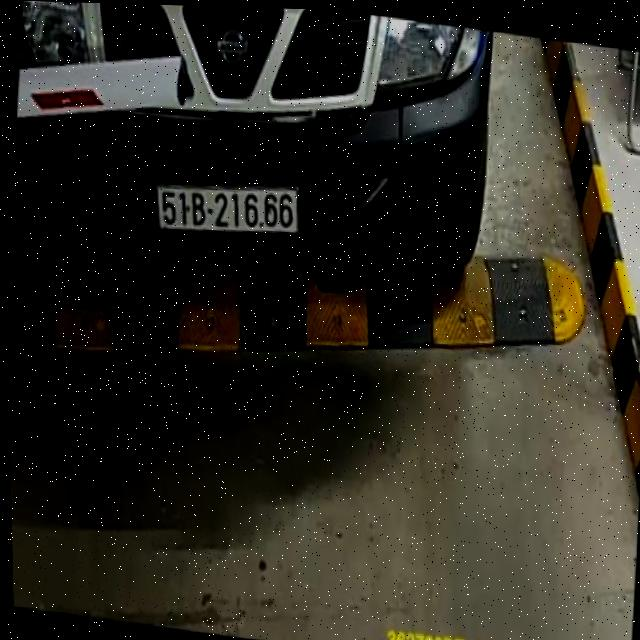car: (2, 0, 507, 313)
plate: (146, 173, 311, 244)
